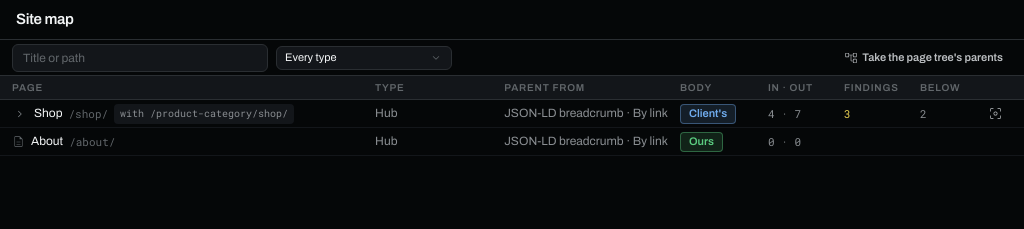
the site map › loads a node's children when it is expanded, with a row for the next page of them
This screenshot has width=1024, height=229.
Click the button named "Show the pages below /shop/" at [20, 114], box [12,106,28,122]
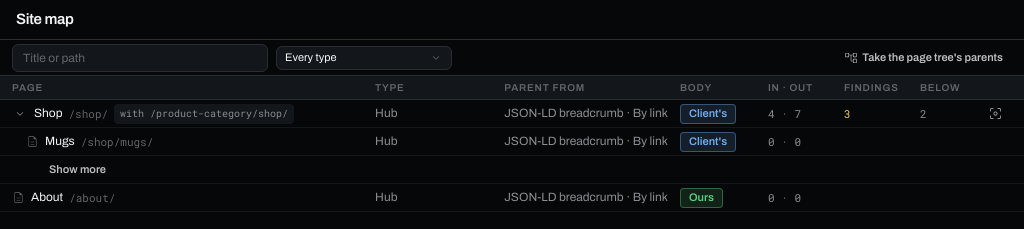
Now the text "Mugs" is shown, box [45,133,75,150]
Now the button "Show more" is shown, box [40,158,115,182]
